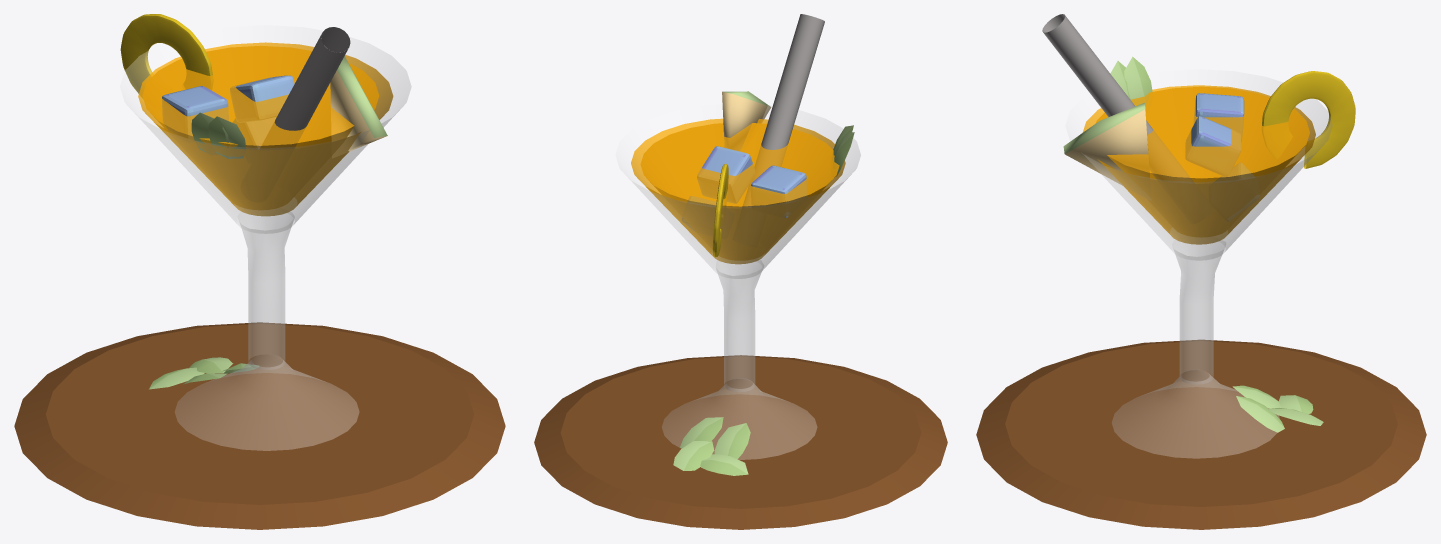
The model's file is cocktail_pineaple_1.2.glb.
3 renders of one model, left to right at view 1: azimuth 30°, elevation 25°; view 2: azimuth 150°, elevation 25°; view 3: azimuth 270°, elevation 25°, orthographic. The views are drawn at different scales.
Parts seen in each view (by area): view 1: Cone002, glas, Cone001, Stand part 2, object 4, Stil, Tube001, ANANAS, Pyramid001, ICE002, ICE, Minze_21 - Default_0 (+3 smaller); view 2: Cone002, Cone001, glas, object 4, Stand part 2, Tube001, Stil, ICE, Pyramid001, ICE002, Minze004_21 - Default_0, Minze003_21 - Default_0 (+3 smaller); view 3: Cone002, glas, Cone001, Stand part 2, object 4, ANANAS, Stil, Tube001, Pyramid001, ICE, ICE002, Minze001_21 - Default_0 (+1 smaller).
Part boxes in pixels (left/top/right/bottom): Cone002: left=14, top=322, right=505, bottom=529; glas: left=120, top=25, right=411, bottom=233; Cone001: left=142, top=45, right=379, bottom=209; Stand part 2: left=175, top=355, right=358, bottom=450; object 4: left=138, top=42, right=393, bottom=216; Stil: left=238, top=212, right=294, bottom=369; Tube001: left=260, top=27, right=350, bottom=149; ANANAS: left=120, top=14, right=213, bottom=97; Pyramid001: left=330, top=56, right=387, bottom=157; ICE002: left=162, top=86, right=228, bottom=139; ICE: left=230, top=75, right=294, bottom=122; Minze_21 - Default_0: left=208, top=116, right=246, bottom=158; Cone002: left=534, top=355, right=947, bottom=529; Cone001: left=640, top=123, right=839, bottom=259; glas: left=616, top=104, right=860, bottom=278; object 4: left=631, top=118, right=845, bottom=264; Stand part 2: left=662, top=378, right=816, bottom=459; Tube001: left=743, top=14, right=824, bottom=207; Stil: left=716, top=260, right=763, bottom=391; ICE: left=697, top=146, right=755, bottom=203; Pyramid001: left=722, top=91, right=771, bottom=150; ICE002: left=751, top=165, right=807, bottom=217; Minze004_21 - Default_0: left=714, top=423, right=750, bottom=459; Minze003_21 - Default_0: left=673, top=441, right=714, bottom=470; Cone002: left=976, top=339, right=1426, bottom=529; glas: left=1065, top=69, right=1332, bottom=260; Cone001: left=1095, top=86, right=1309, bottom=236; Stand part 2: left=1112, top=370, right=1279, bottom=458; object 4: left=1082, top=85, right=1315, bottom=244; ANANAS: left=1262, top=71, right=1355, bottom=168; Stil: left=1172, top=240, right=1225, bottom=384; Tube001: left=1042, top=14, right=1194, bottom=183; Pyramid001: left=1063, top=102, right=1150, bottom=199; ICE: left=1185, top=116, right=1240, bottom=176; ICE002: left=1194, top=93, right=1244, bottom=140; Minze001_21 - Default_0: left=1124, top=56, right=1152, bottom=105.
Bounding box in the file's own units: 0.684 × 0.6979 × 0.684.
Materials: 7 (2 with a texture image).
